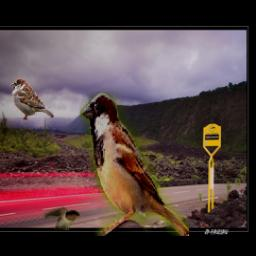Sparrow: (81, 93, 190, 237), (12, 78, 55, 121)
Swallow: (44, 207, 81, 231)
